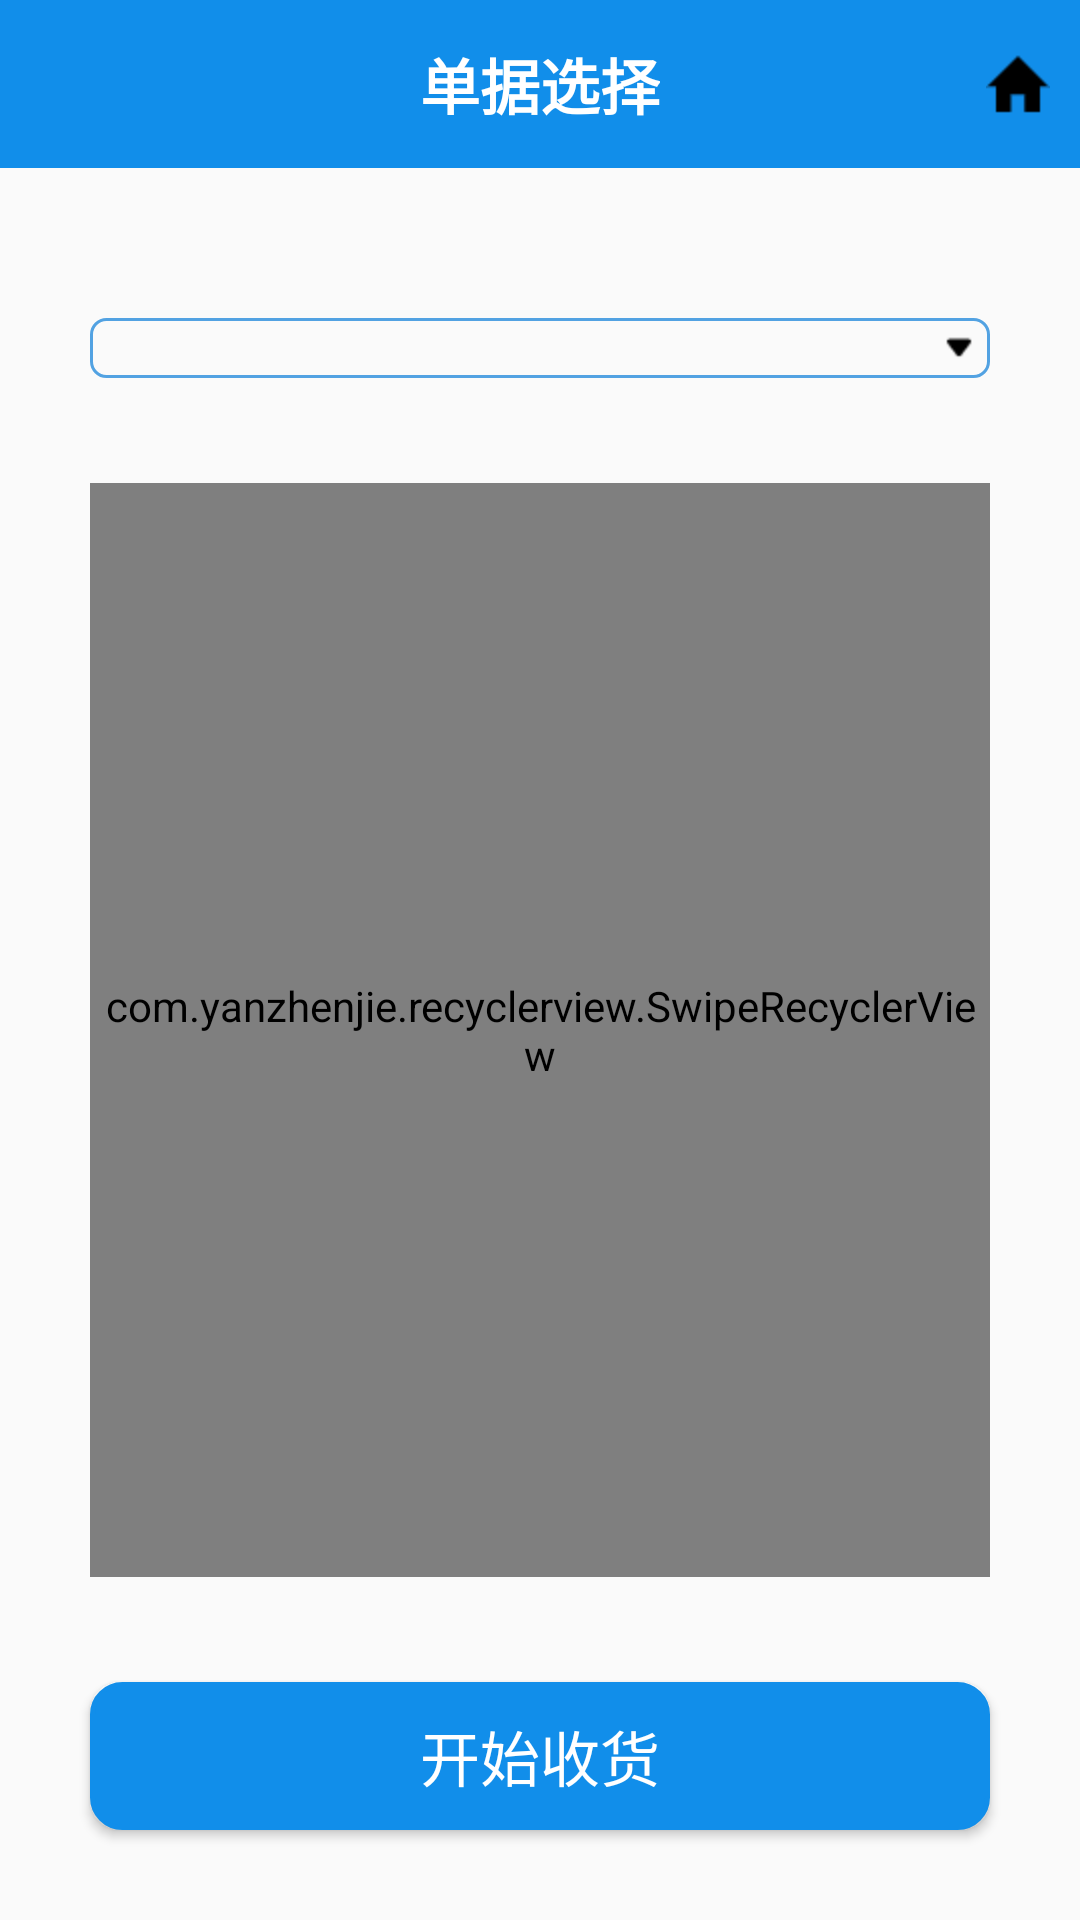

Where to tap for icons on this 1080×1920 app screen, as point (x, y):
home: point (1018, 84)
